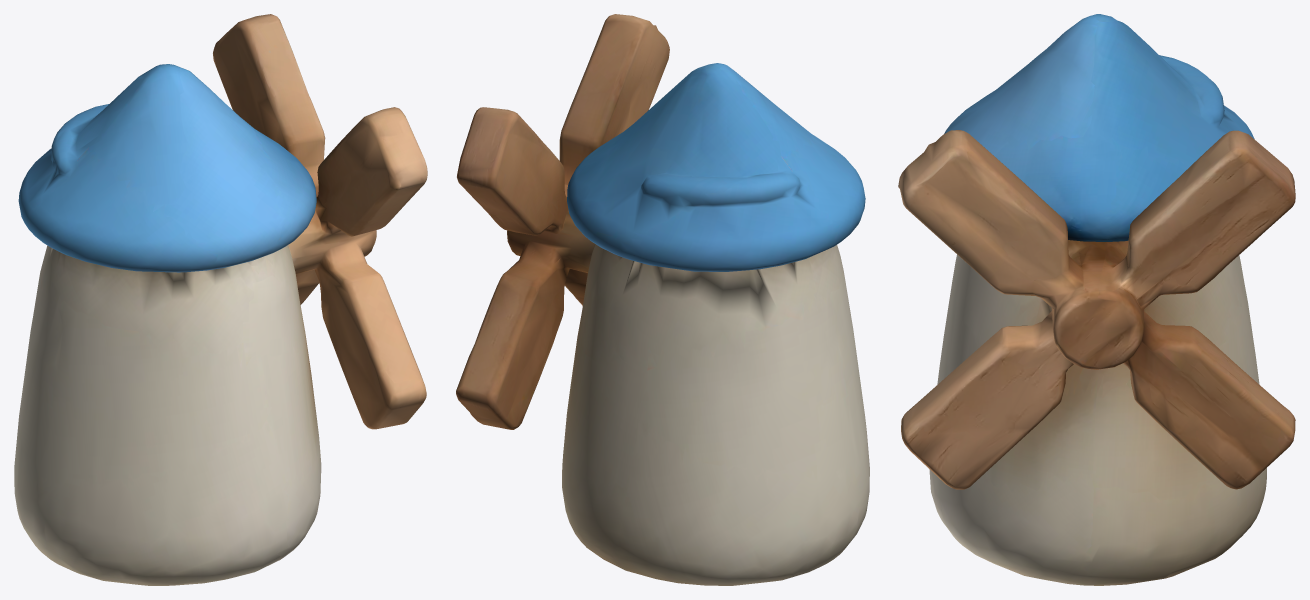
Rendered from windmill.glb.
3 views of the same model, side by side, from view 1: azimuth 30°, elevation 25°; view 2: azimuth 150°, elevation 25°; view 3: azimuth 270°, elevation 25° (orthographic). The views are drawn at different scales.
Visible parts, largest first — view 1: tripo_node_46163159-3672-44a8-a09a-bcf792ab5bd6; view 2: tripo_node_46163159-3672-44a8-a09a-bcf792ab5bd6; view 3: tripo_node_46163159-3672-44a8-a09a-bcf792ab5bd6.
Part boxes in pixels (bbox=[...]): tripo_node_46163159-3672-44a8-a09a-bcf792ab5bd6: bbox=[14, 14, 427, 585]; tripo_node_46163159-3672-44a8-a09a-bcf792ab5bd6: bbox=[456, 14, 869, 585]; tripo_node_46163159-3672-44a8-a09a-bcf792ab5bd6: bbox=[898, 14, 1295, 585].
Size of the model in its own units: 0.7277 by 1 by 0.7066.
1 material, 1 textured.
